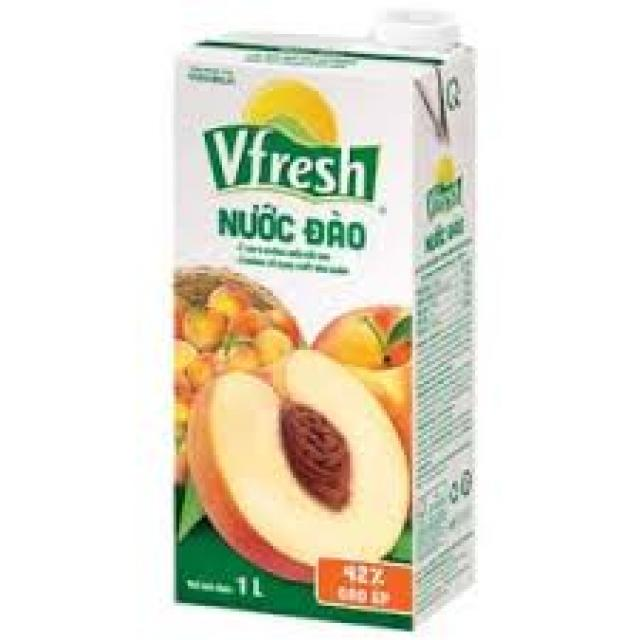non_white_jug: (12, 2, 250, 512)
